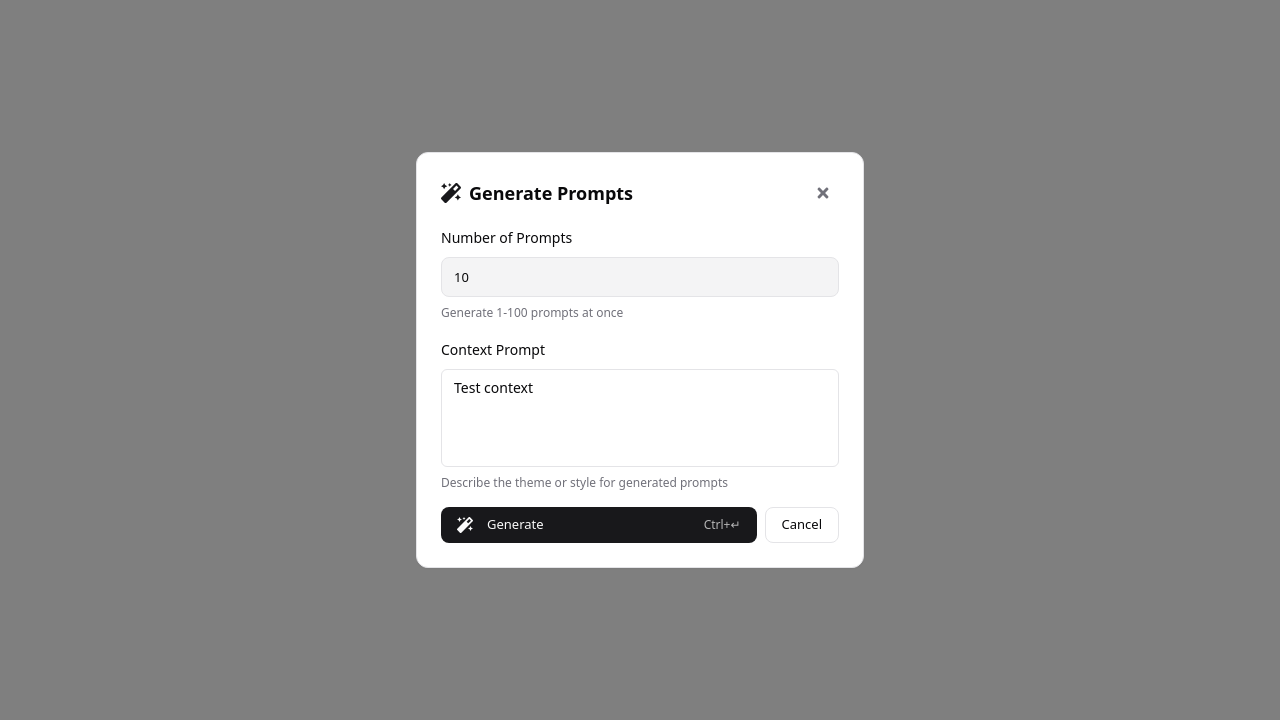
Test: GenerateDialog › should show error when context is empty
Clear the text box labelled "Context Prompt" at coordinates (640, 418), box [441, 369, 839, 467]
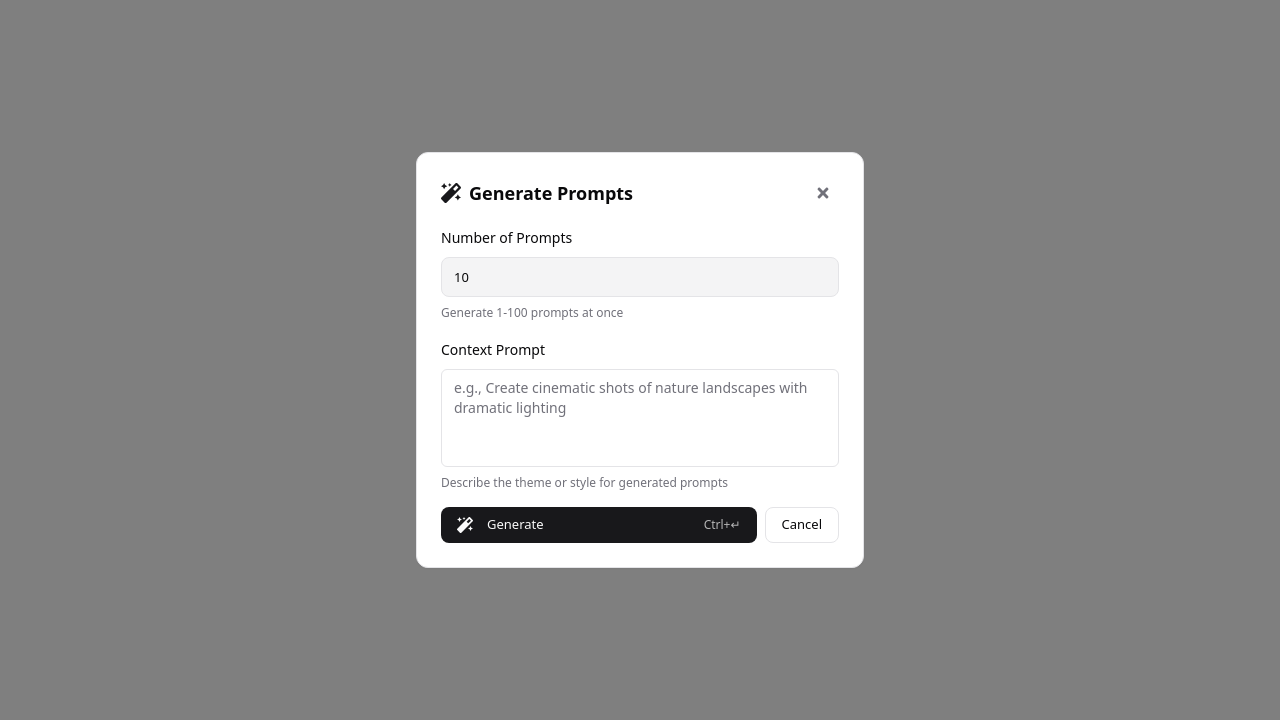
Click the button "Generate Ctrl+↵" at coordinates (515, 524), box [441, 507, 756, 543]
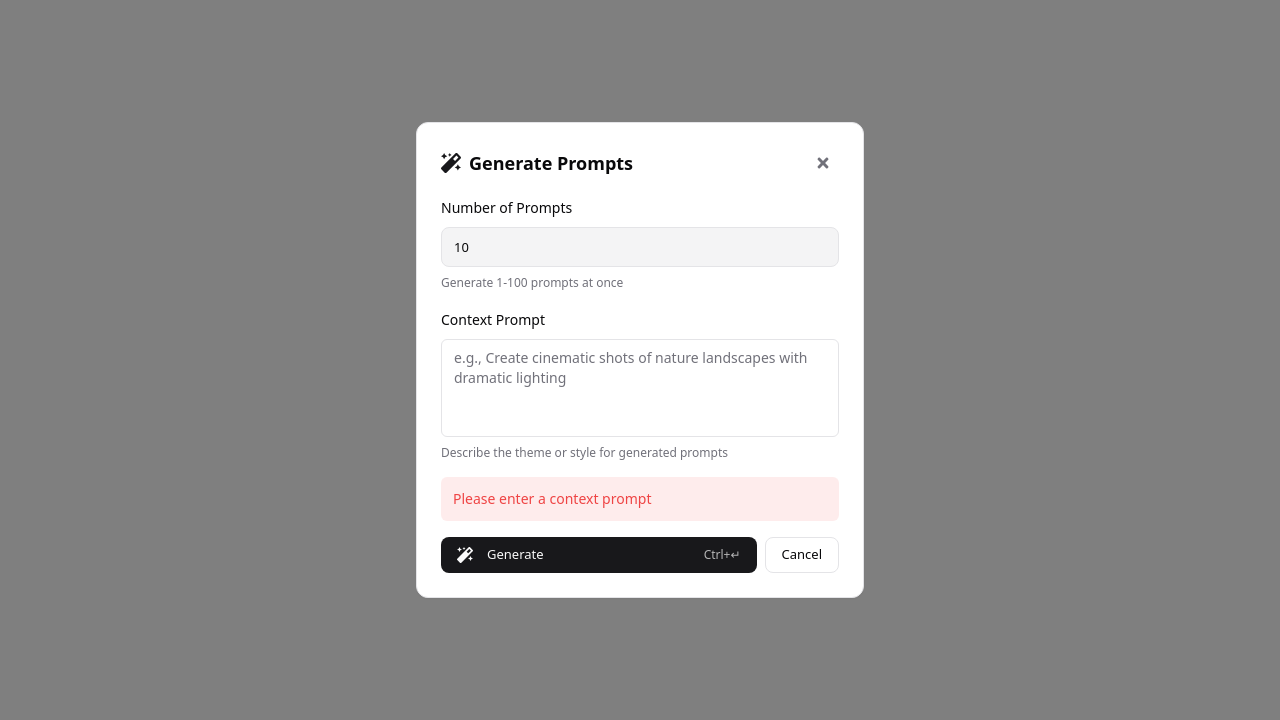
expect the text "Please enter a context prompt" is shown: met, box [441, 477, 839, 521]
